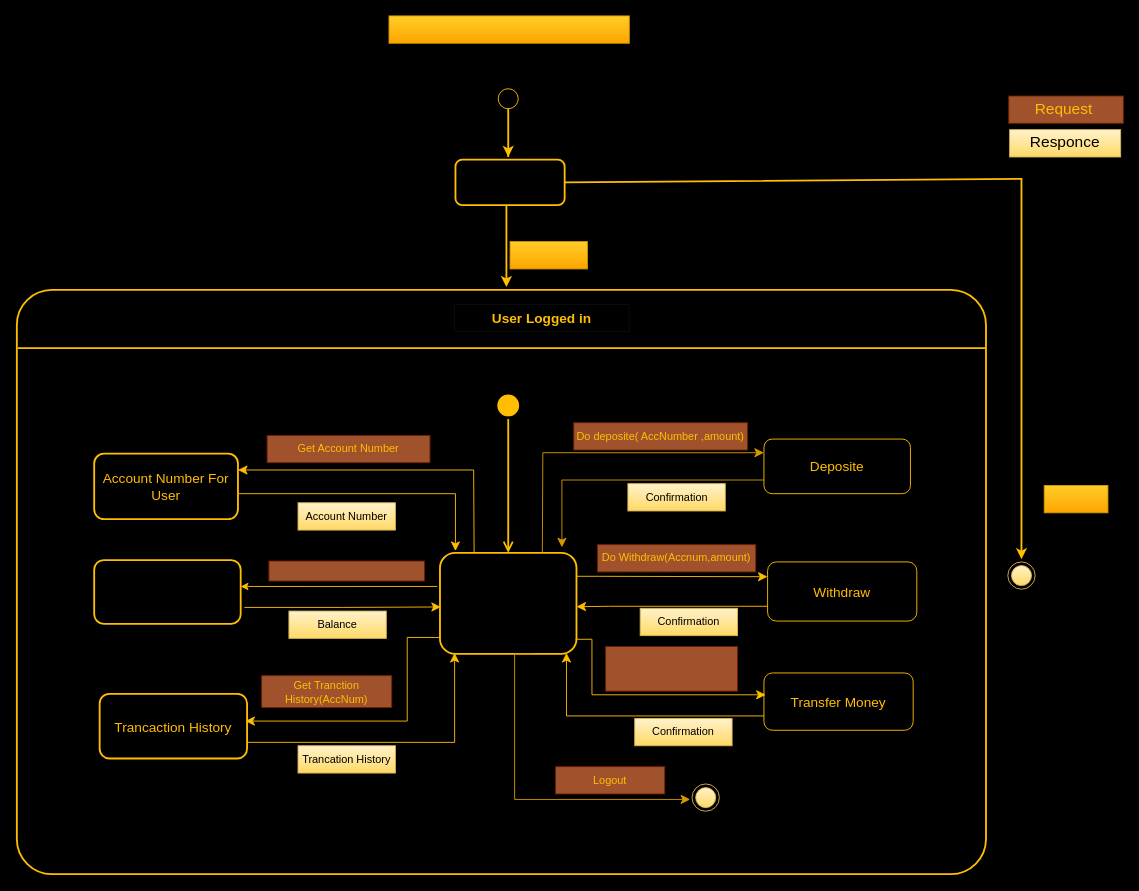
Some shapes in this 1139 by 891 pixel diagram are drawn without their labels. The centre of each missing label's shape, as x and y in pixels:
Get User Balance(AccNum): the point at 346,570
Login Failed: the point at 1075,499
Login Successful: the point at 548,255
Transfer Money(AccNumber ,Host AccNmuber, amount): the point at 671,668
User Actions: the point at 508,602
User Balance: the point at 167,591
User Login: the point at 509,182
User State Diagram: the point at 508,29
